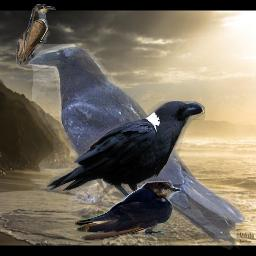Crow: (27, 44, 245, 250), (46, 101, 205, 216)
Cuckoo: (16, 4, 64, 65)
Swallow: (74, 181, 181, 241)
